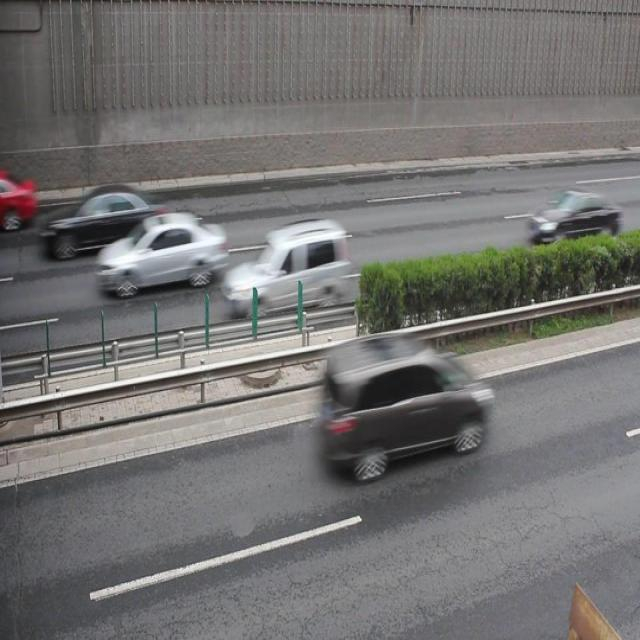car: (222, 218, 348, 317), (97, 209, 227, 296), (42, 180, 166, 262), (527, 186, 622, 258), (1, 168, 36, 230)
truck: (321, 334, 489, 476)
